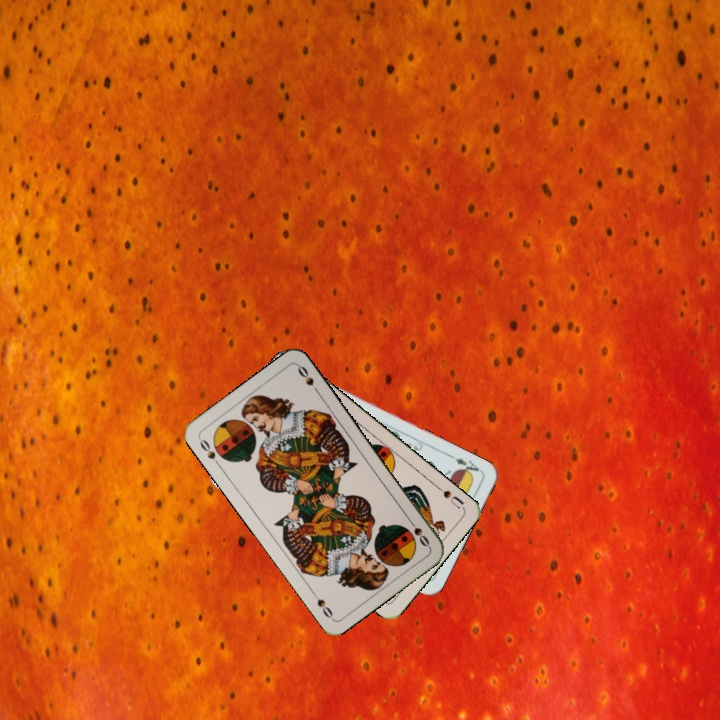EA: (446, 451, 484, 479)
SO: (404, 514, 432, 550), (195, 434, 223, 469)
SU: (432, 481, 466, 512)
